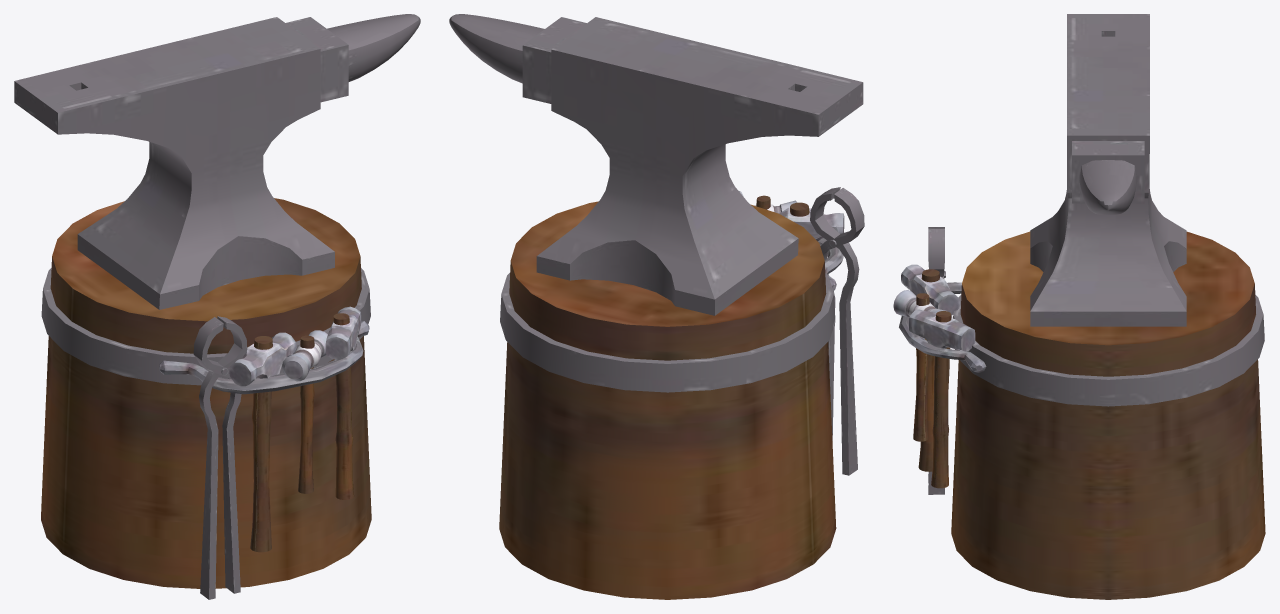
Rendered from anvil_log.glb.
3 views of the same model, side by side, from view 1: azimuth 30°, elevation 25°; view 2: azimuth 150°, elevation 25°; view 3: azimuth 270°, elevation 25° (orthographic). The views are drawn at different scales.
Parts seen in each view (by area): view 1: Anvil_Log.001; view 2: Anvil_Log.001; view 3: Anvil_Log.001.
Part boxes in pixels (bbox=[...]): Anvil_Log.001: bbox=[14, 14, 420, 599]; Anvil_Log.001: bbox=[449, 14, 864, 599]; Anvil_Log.001: bbox=[893, 14, 1265, 599].
Bounding box in the file's own units: 0.9293 × 1.07 × 0.8214.
Materials: 3 (3 with a texture image).
